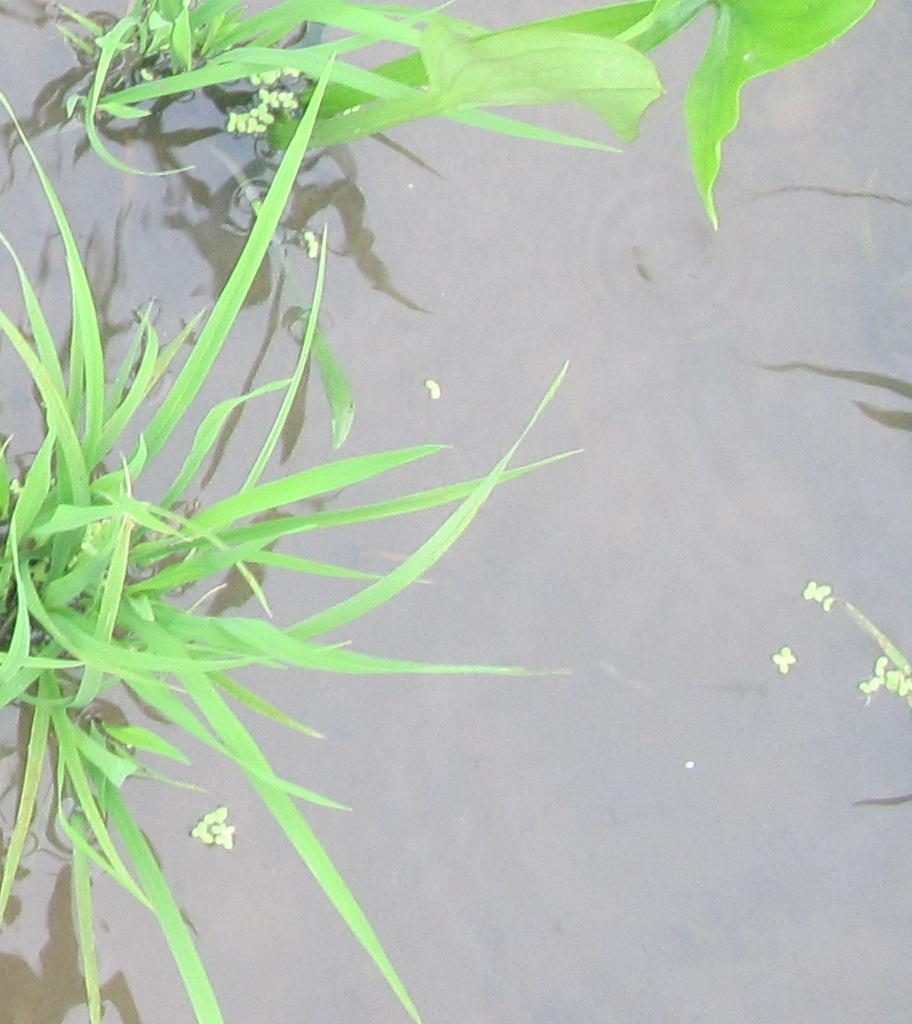Weed: (424, 3, 877, 185), (221, 55, 302, 153)
